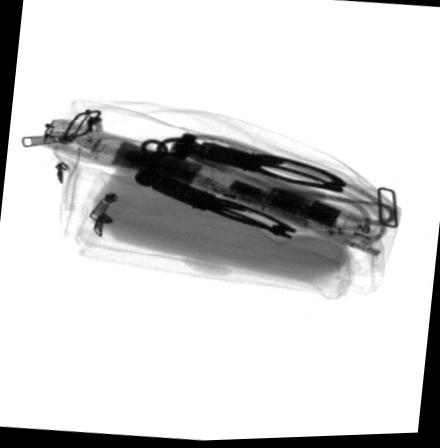Baton: (37, 117, 370, 250)
HandCuffs: (132, 131, 348, 240)
